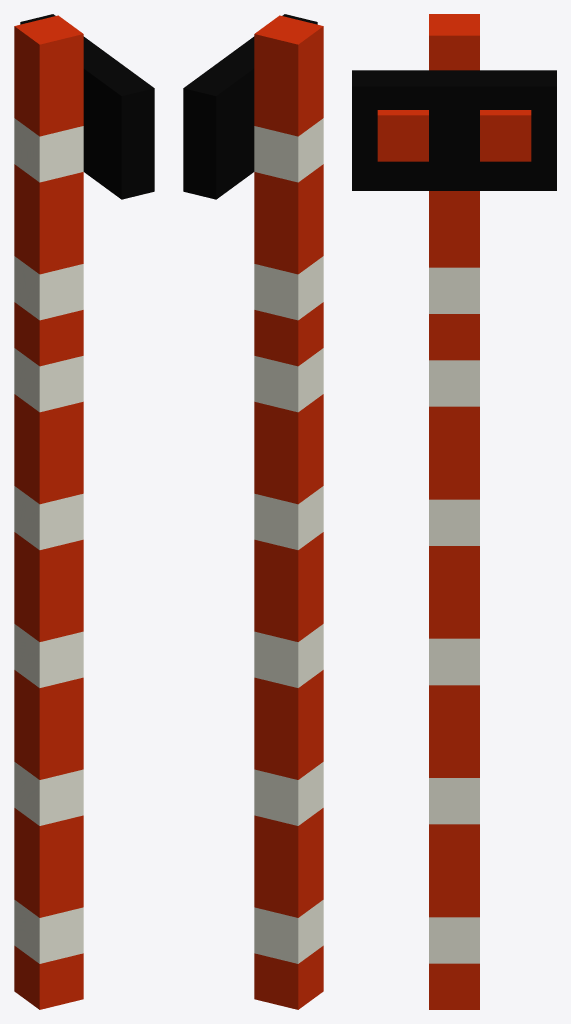
Rendered from semaforo2.obj.
3 views of the same model, side by side, from view 1: azimuth 30°, elevation 25°; view 2: azimuth 150°, elevation 25°; view 3: azimuth 270°, elevation 25° (orthographic).
Size of the model in its own units: 8 by 84 by 16.
1 material, 1 textured.
